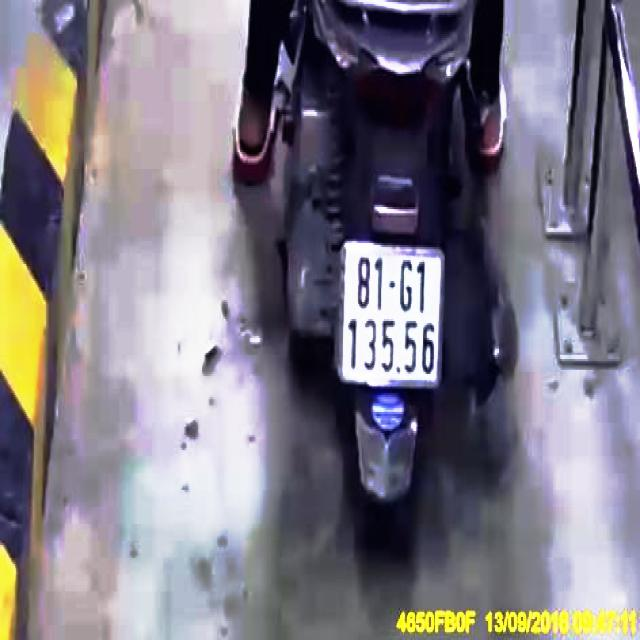license_plate: (341, 244, 446, 383)
